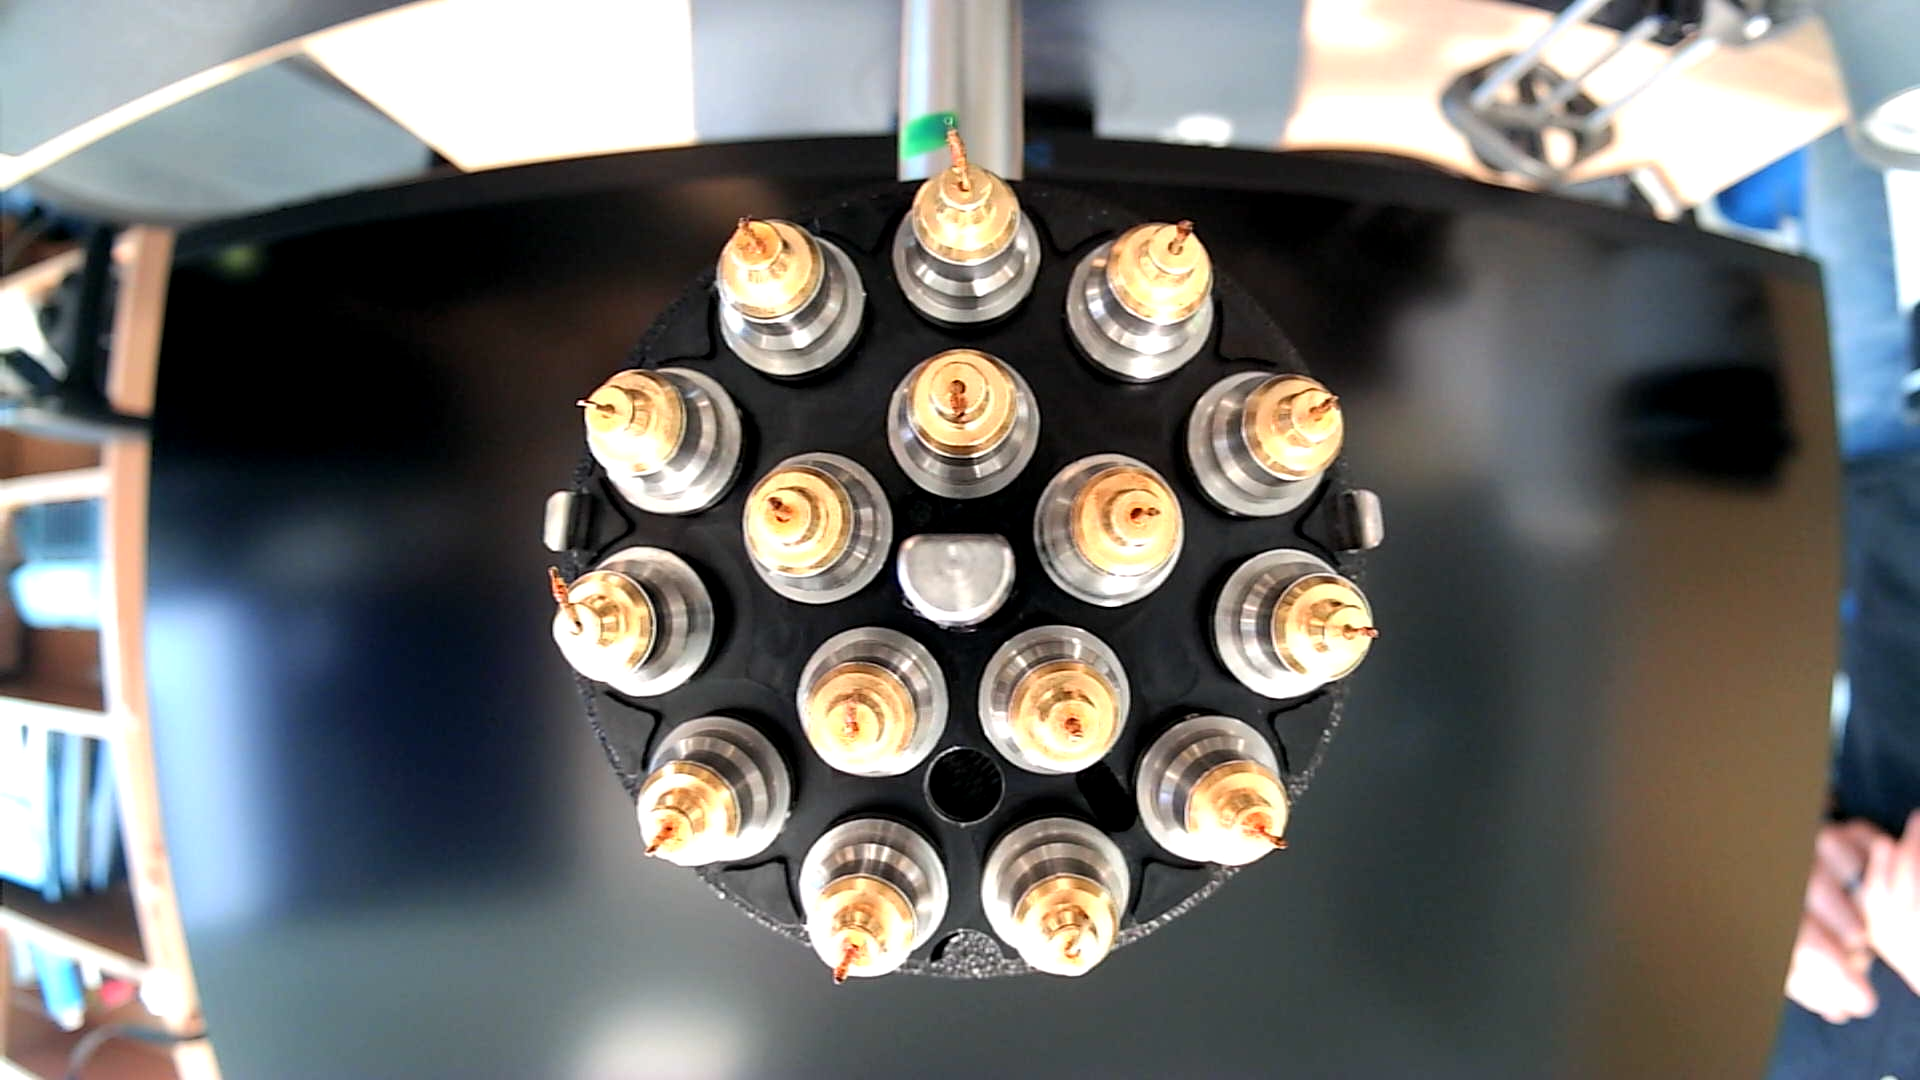bent: (890, 123, 1040, 328), (545, 543, 719, 703), (978, 812, 1131, 982), (882, 342, 1043, 501), (794, 626, 952, 785)
hole: (920, 742, 1007, 827)
pin: (798, 814, 953, 993), (1209, 545, 1381, 702), (567, 363, 740, 517), (711, 211, 865, 381), (1135, 709, 1296, 870), (1064, 214, 1215, 385), (636, 717, 793, 877), (1031, 450, 1185, 611), (1185, 364, 1345, 518), (737, 452, 893, 608), (976, 618, 1133, 773)
rod: (895, 531, 1018, 637)
